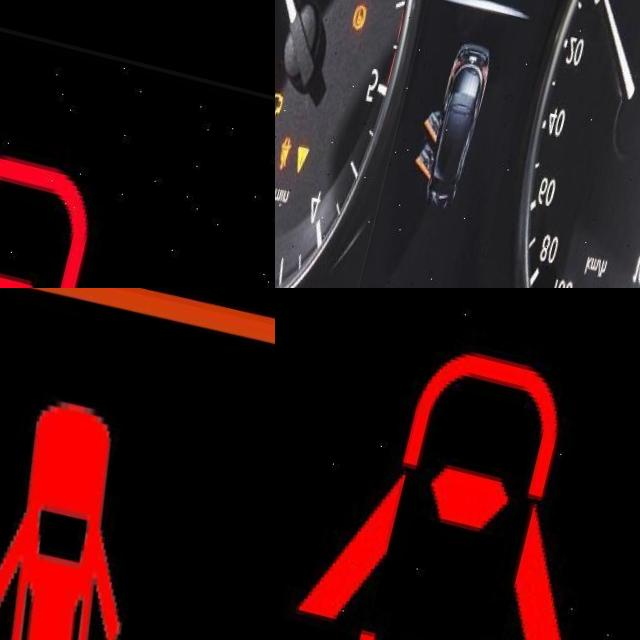Electronic Power Steering Warning: (275, 56, 292, 91)
Seat Belt: (296, 126, 318, 164)
